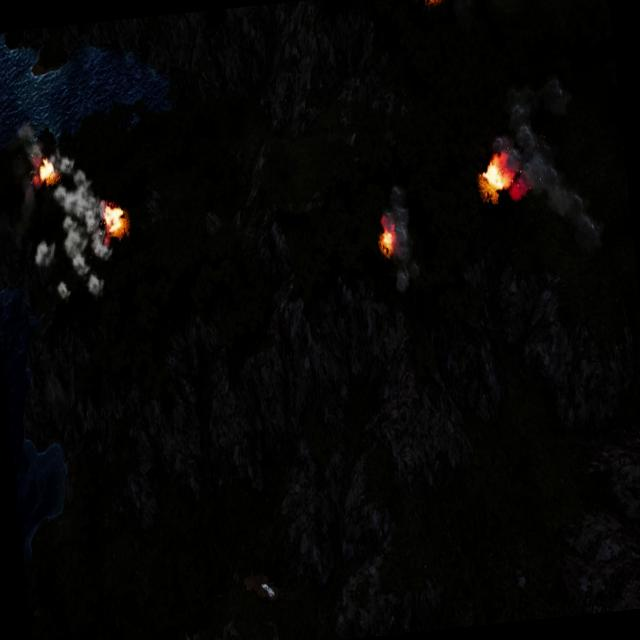fire: (476, 152, 514, 200), (100, 195, 130, 241), (375, 220, 398, 258), (32, 156, 59, 188), (410, 0, 449, 6)
smoke: (486, 64, 602, 258), (0, 115, 114, 312), (384, 178, 434, 296)
